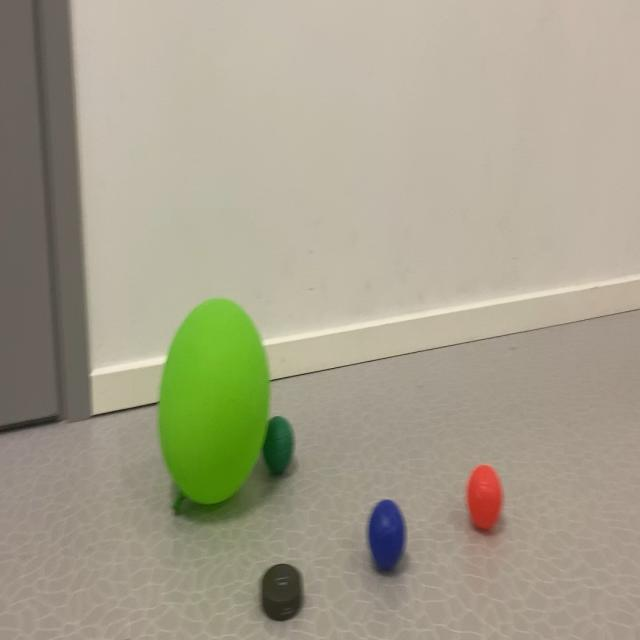blue ball: (367, 500, 413, 576)
green ball: (271, 416, 300, 477)
red ball: (467, 466, 509, 536)
